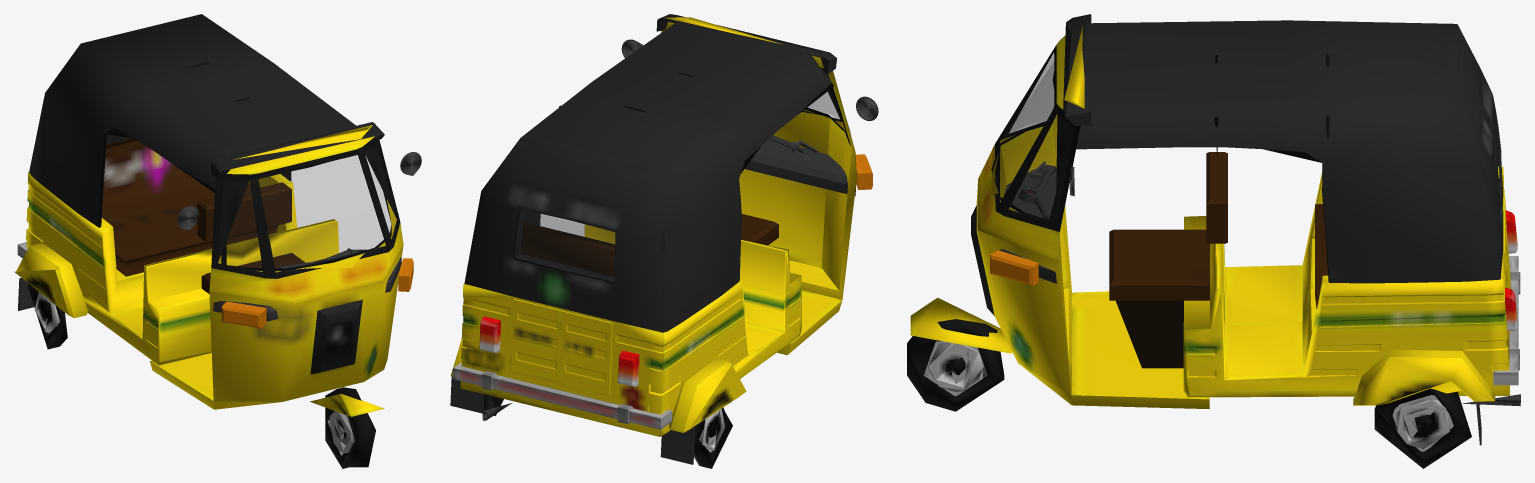
The model's file is share_auto.glb.
The picture shows the model from 3 angles, left to right: view 1: azimuth 30°, elevation 25°; view 2: azimuth 150°, elevation 25°; view 3: azimuth 270°, elevation 25°; orthographic projection. The views are drawn at different scales.
Visible parts, largest first — view 1: persp5_lambert1_0, persp5_blinn1_0; view 2: persp5_lambert1_0, persp5_blinn1_0; view 3: persp5_lambert1_0, persp5_blinn1_0.
Boxes of the visible parts, <box> form: persp5_lambert1_0: <box>15,14,421,468</box>; persp5_blinn1_0: <box>179,146,417,272</box>; persp5_lambert1_0: <box>450,14,878,468</box>; persp5_blinn1_0: <box>518,44,875,278</box>; persp5_lambert1_0: <box>907,14,1520,468</box>; persp5_blinn1_0: <box>992,51,1498,222</box>.
Bounding box in the file's own units: 1.5 × 1.7 × 2.69.
Materials: 2 (1 with a texture image).
